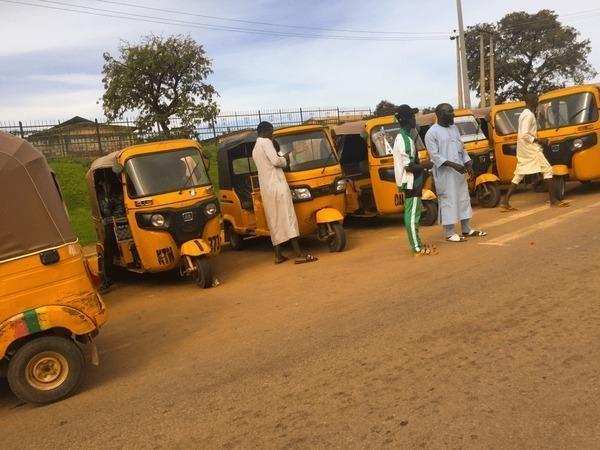keke: (85, 135, 226, 287), (215, 123, 349, 254)
